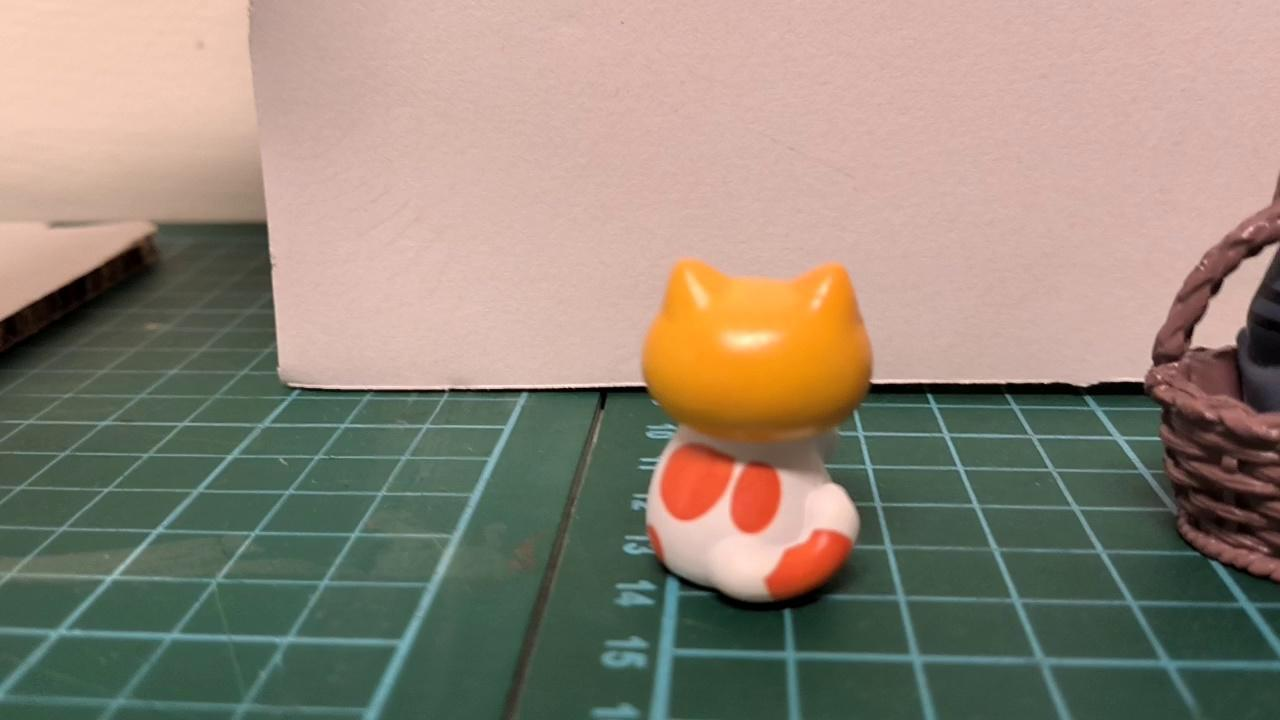pet: (616, 241, 884, 610)
